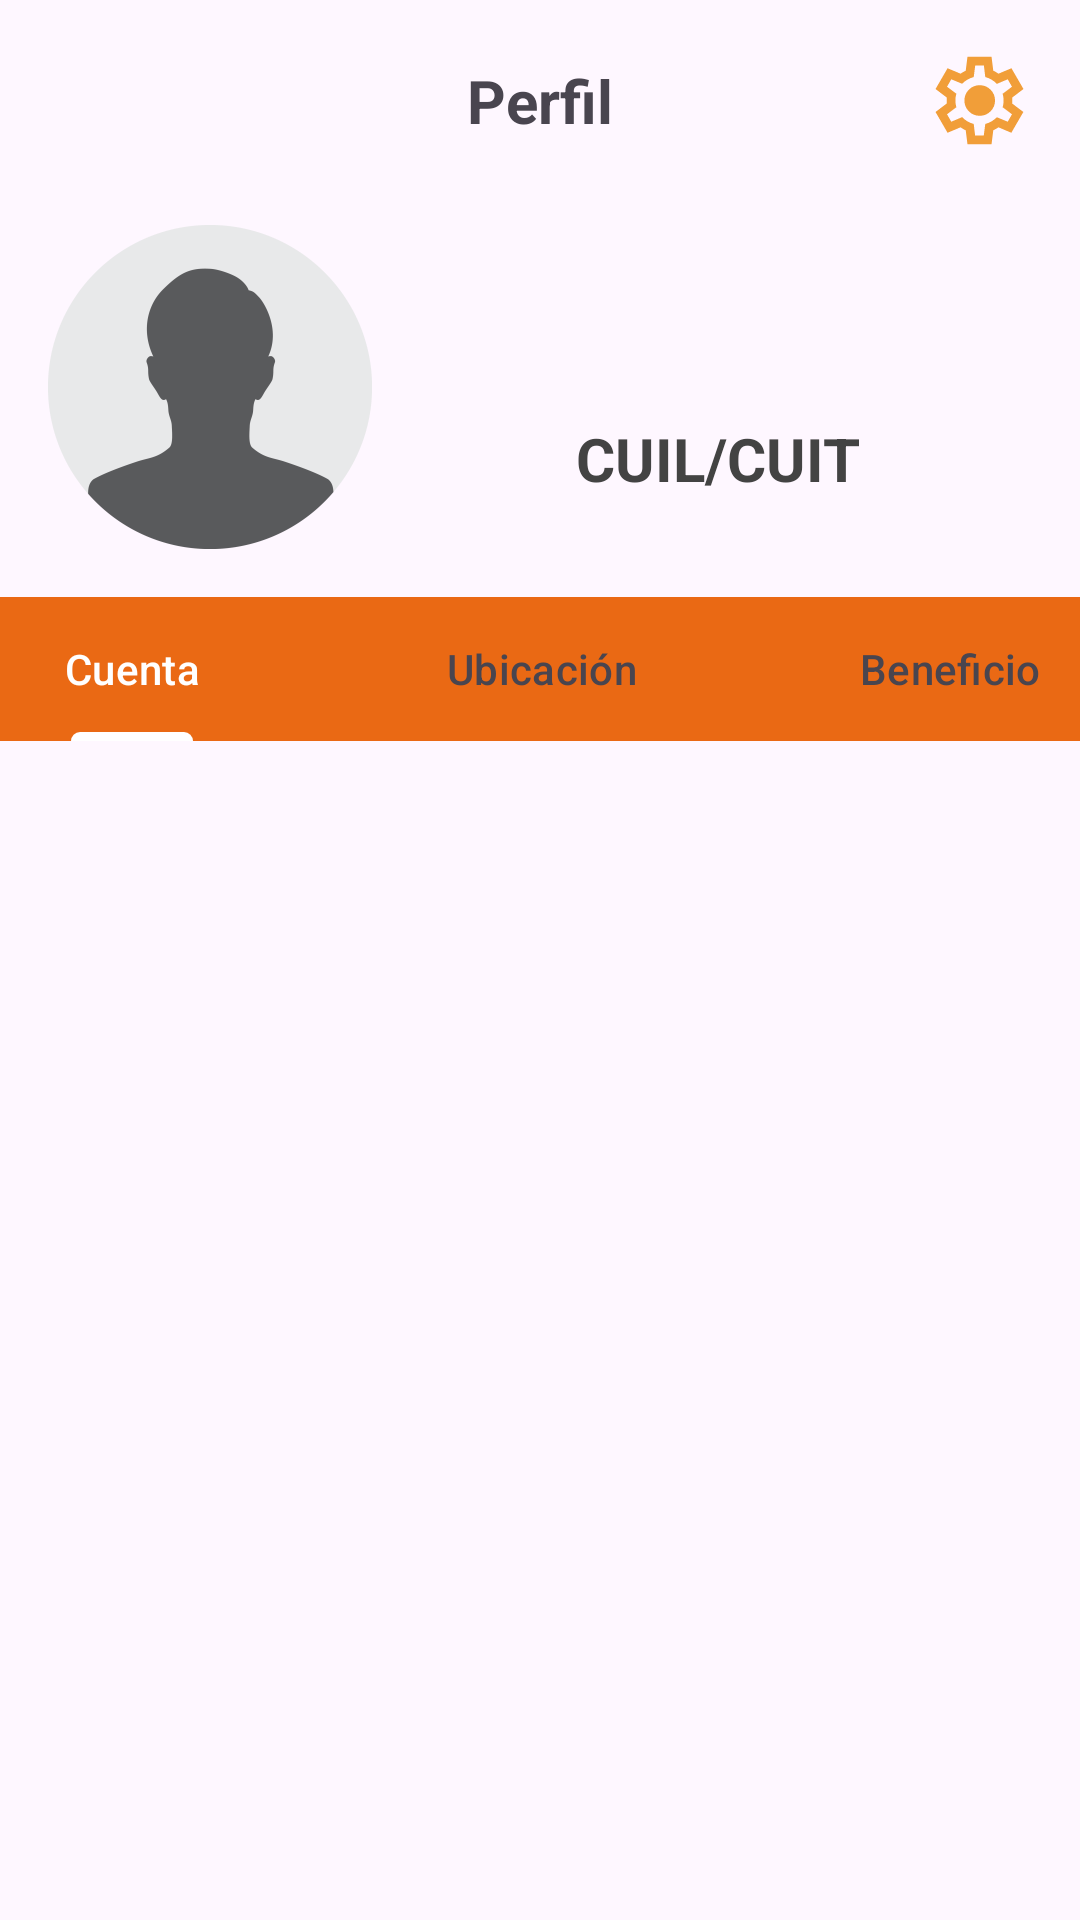

Named icons in this screenshot (1080x1920) and their centers, [x,y]:
profile: [211,408]
settings: [979,100]
